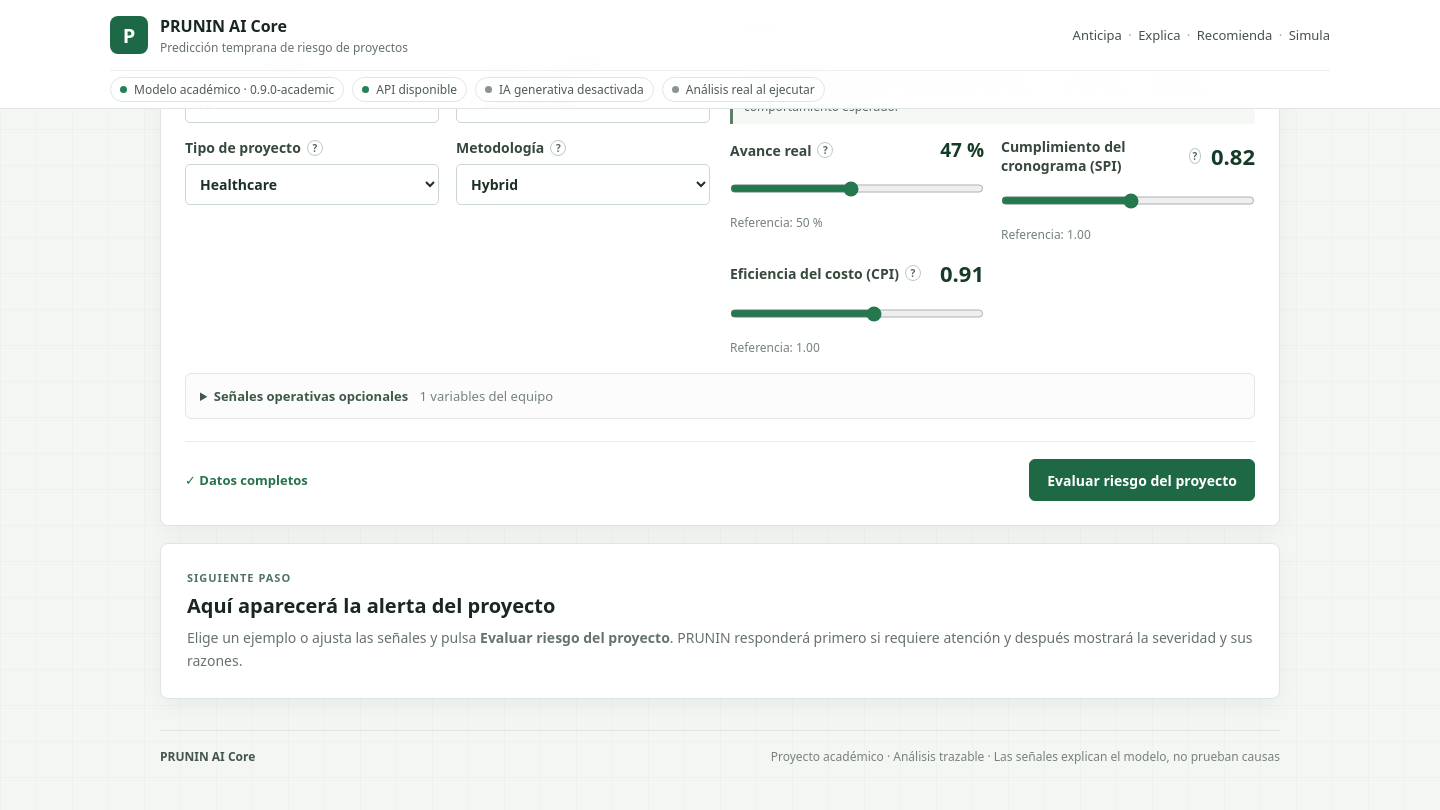
Test case: Playground ejecutivo › identifica Qwen3 cuando el backend confirma que GenAI fue utilizada
The image size is (1440, 810).
(page scrolled)
Click the button "Evaluar riesgo del proyecto" at (1142, 480), box 1029,459 -> 1255,501
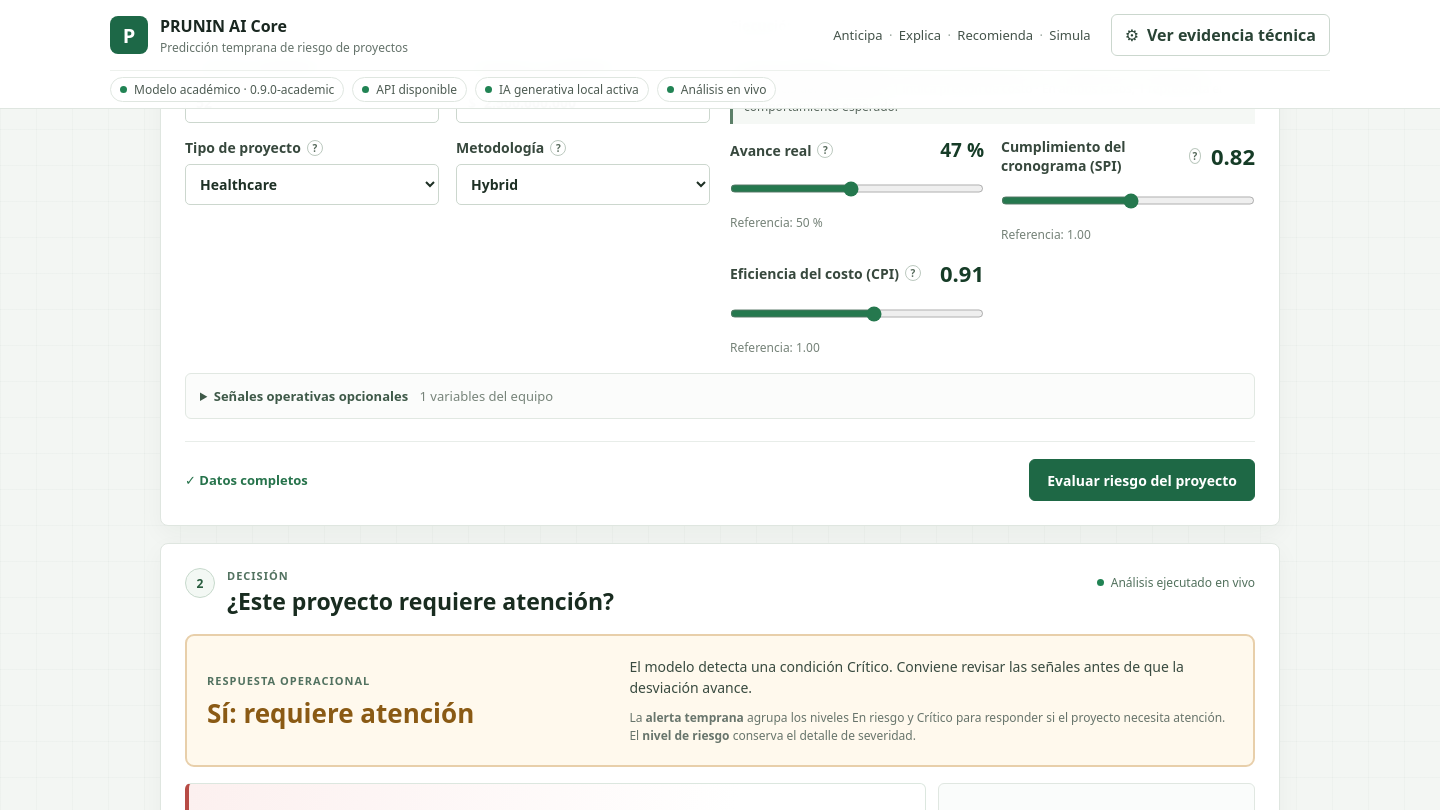
Check: the text "IA generativa local activa" is shown, box 475,77 -> 649,102
